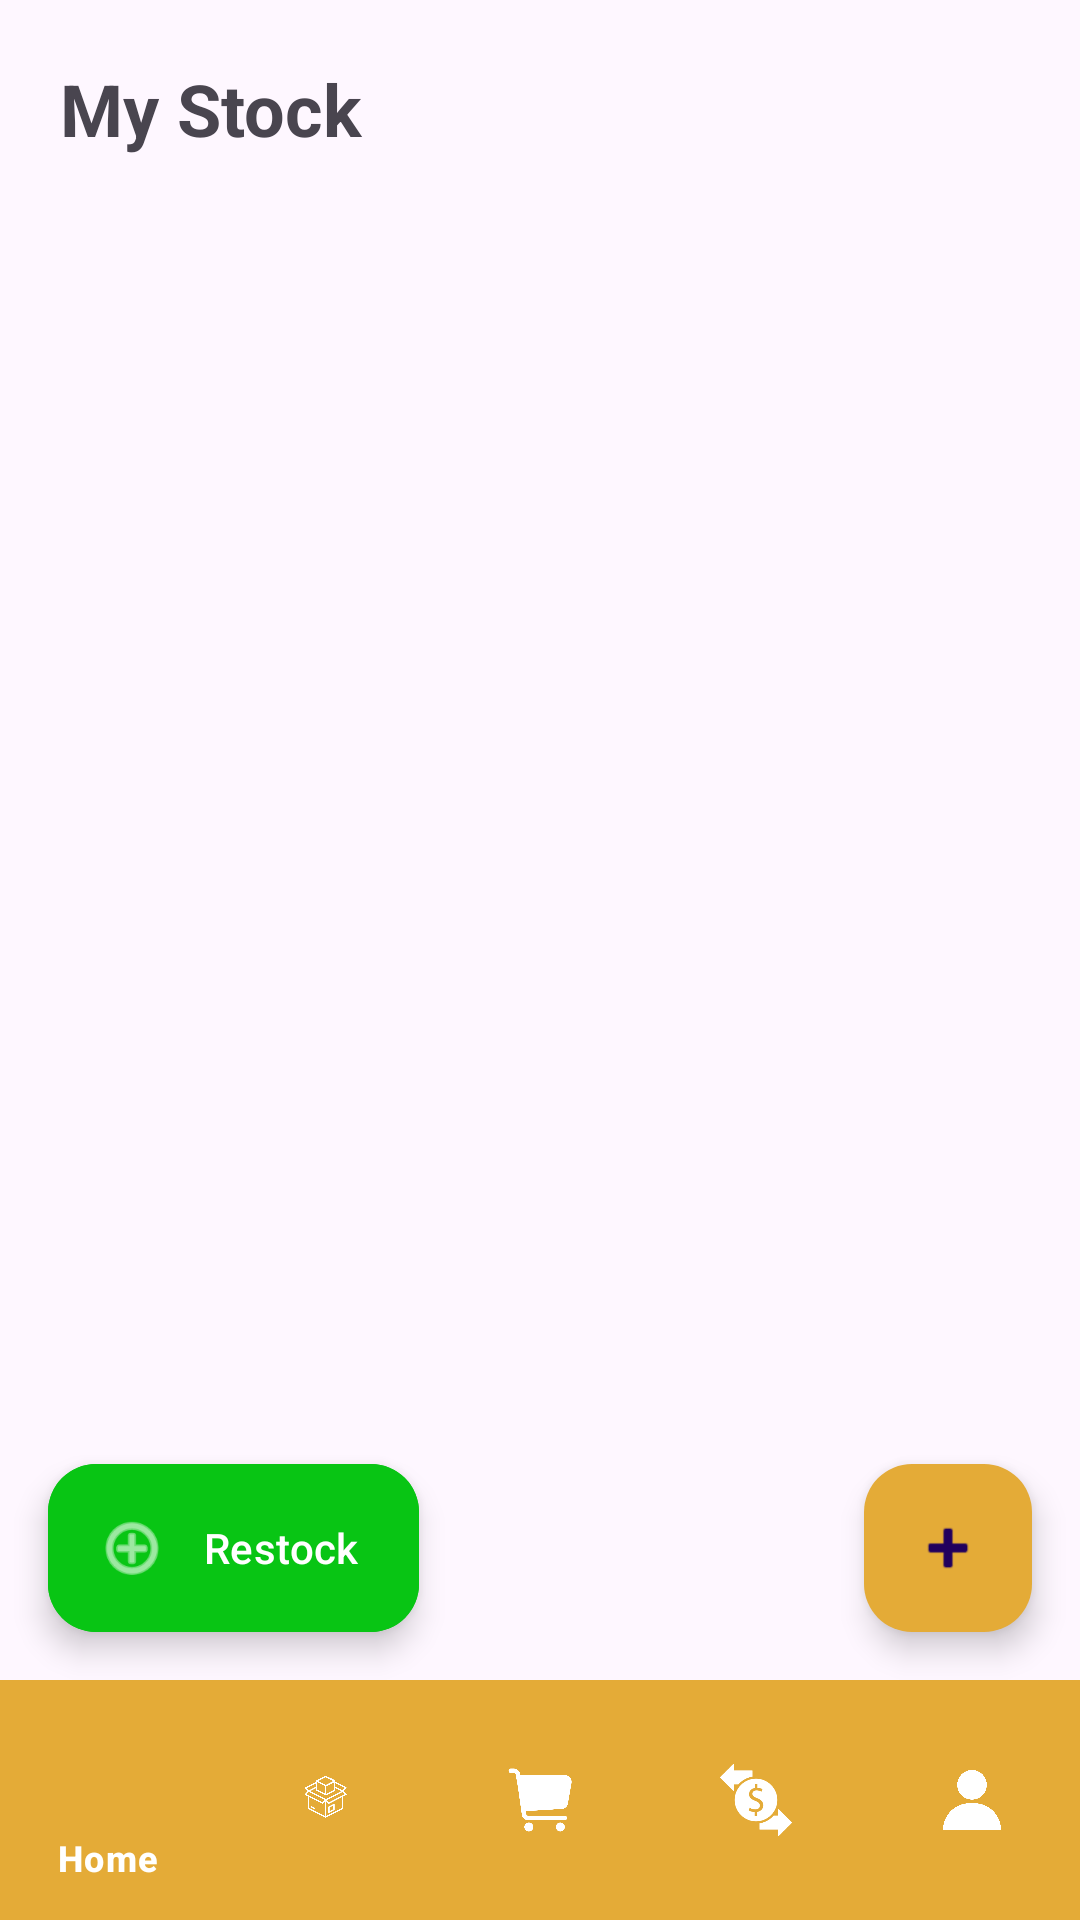

Icons on this 1080*1920 Android screen, each with the point to tap as (x=x, y=y):
add: (x=948, y=1548)
